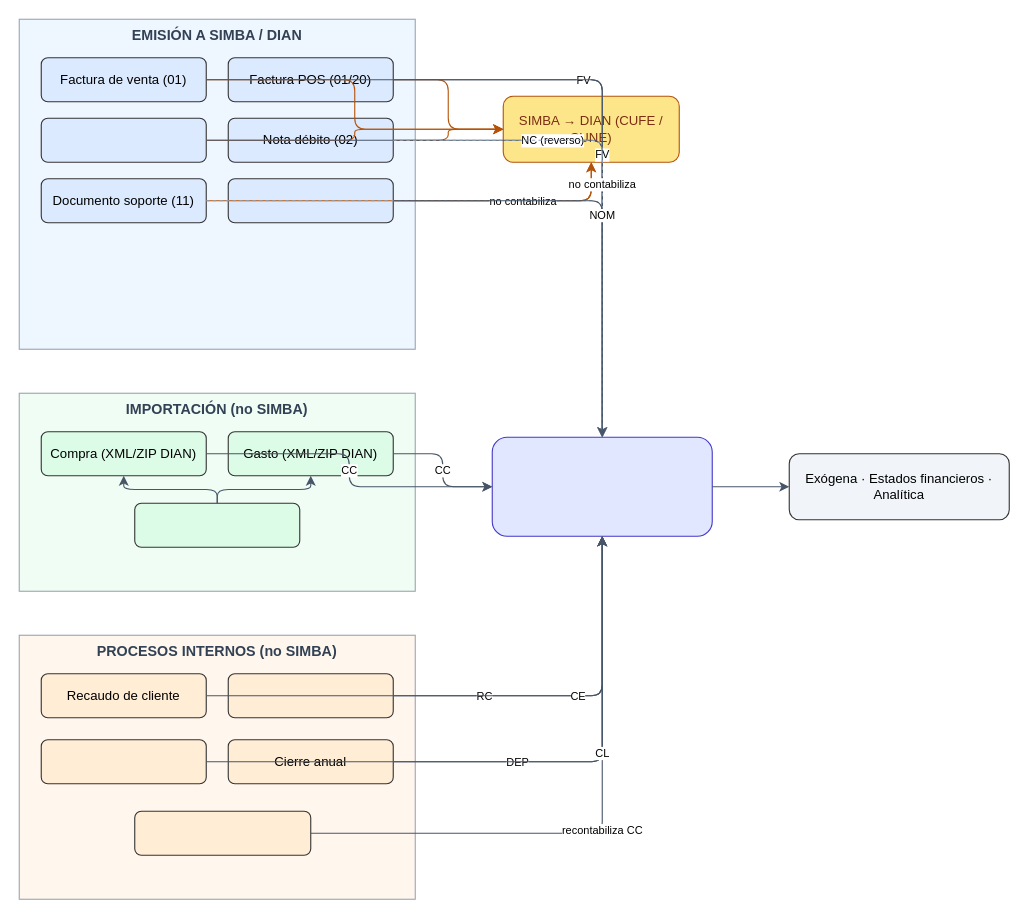
The diagram is 1029 pixels wide and 919 high, and some of its shapes have lost their labels. Each missing label, with the centre of its shape:
"Depreciación" belongs at (x=123, y=761).
"Nota crédito (03)" belongs at (x=123, y=139).
"Nómina electrónica (102)" belongs at (x=310, y=200).
"Pago a proveedor (lote)" belongs at (x=310, y=695).
"Recepción por correo" belongs at (x=217, y=524).
"Retención sobre compra" belongs at (x=222, y=832).
"📒 LIBRO MAYOR motor de partida doble (postAuto idempotente)" belongs at (x=601, y=486).
